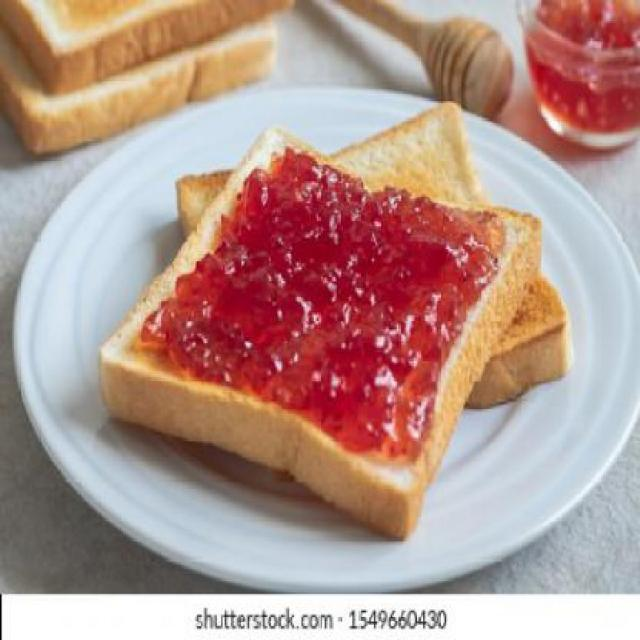Spread: (190, 170, 436, 452)
